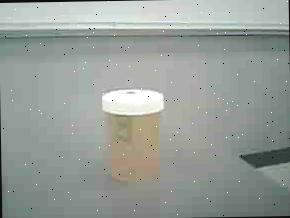Bottle B: (96, 82, 170, 190)
